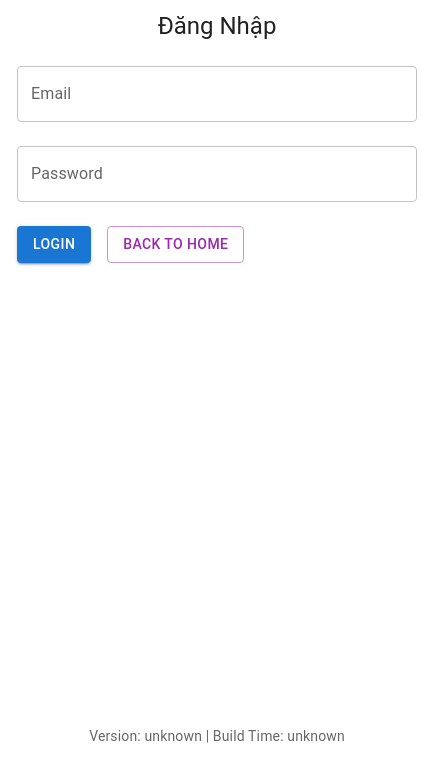
Test: Login Page E2E Test › should show error with incorrect credentials
The image size is (434, 760).
Type "wrong@example.com" into the field named "email" at (217, 94), box [17,66,417,122]
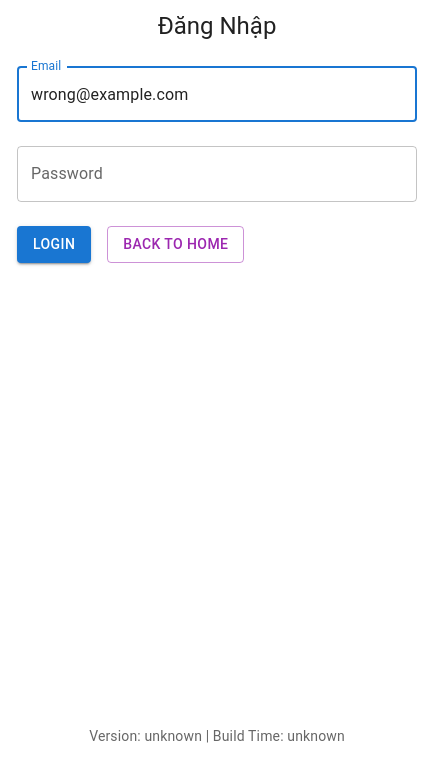
Type "wrongpass" into the password field named "password" at (217, 174), box [17,146,417,202]
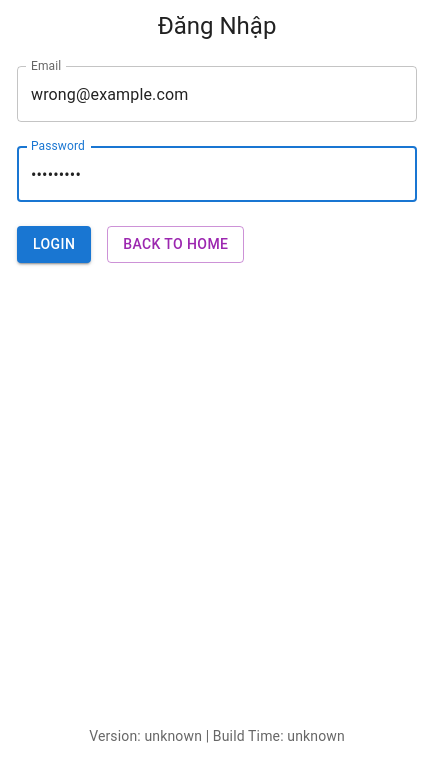
Click the submit button at (54, 245), box [17,226,91,263]
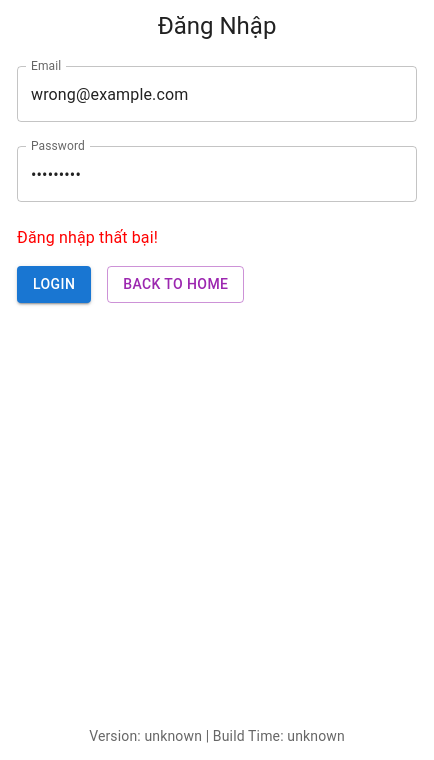
Check: the text "Đăng nhập thất bại!" is shown, box [17,228,158,247]
